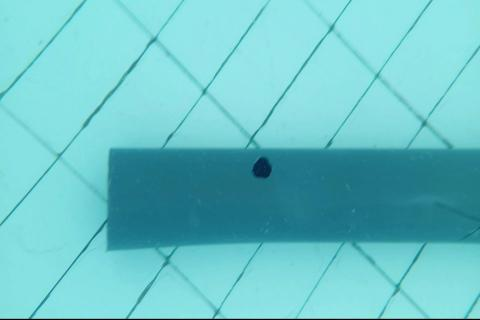kebocoran: (251, 155, 273, 180)
keretakan: (434, 198, 480, 241)
